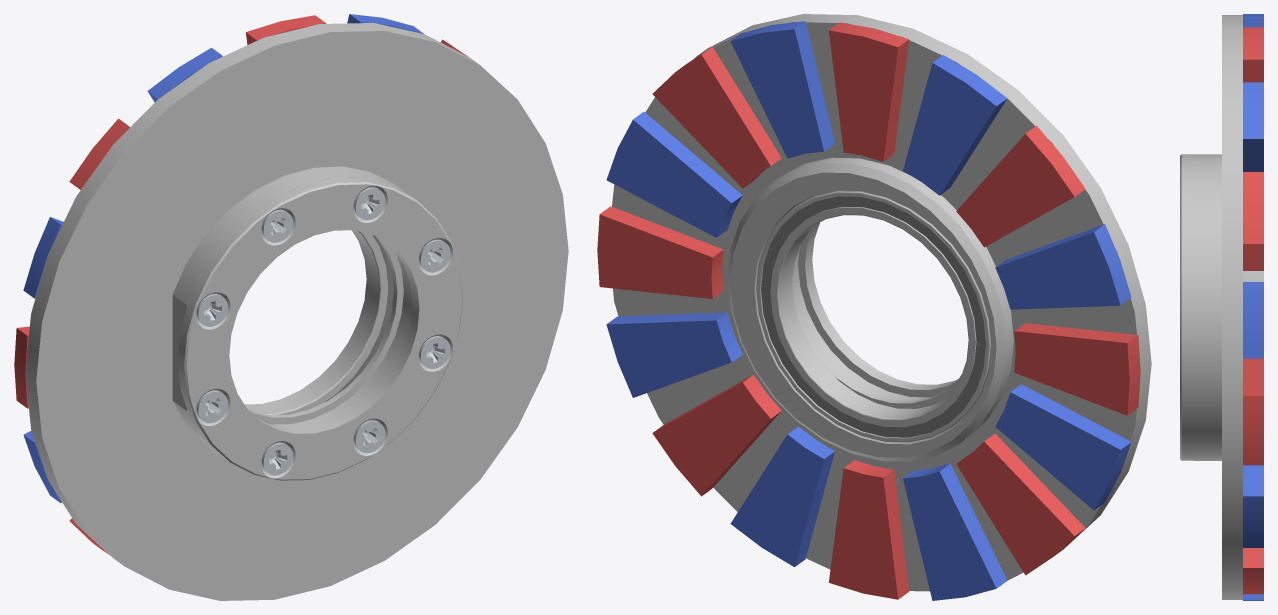
The model's file is backCore_colored.gltf.
The picture shows the model from 3 angles, left to right: view 1: azimuth 30°, elevation 25°; view 2: azimuth 150°, elevation 25°; view 3: azimuth 270°, elevation 25°; orthographic projection. The views are drawn at different scales.
Parts seen in each view (by area): view 1: backCore, backCap, PZ Countersunk flat head screw M2.5x0.45 x 6 (×8), W 61706 2RZ, mesh36_mesh, mesh72_mesh, mesh90_mesh, mesh30_mesh, mesh6_mesh; view 2: backCore, W 61706 2RZ, mesh66_mesh, mesh84_mesh, mesh78_mesh, mesh60_mesh, mesh12_mesh, mesh6_mesh, mesh42_mesh, mesh30_mesh, mesh18_mesh, mesh24_mesh (+7 smaller); view 3: backCore, backCap, mesh42_mesh, mesh18_mesh, mesh60_mesh, mesh48_mesh, mesh78_mesh, mesh6_mesh, mesh0_mesh, mesh90_mesh, mesh54_mesh.
Part boxes in pixels (bbox=[...]): backCore: bbox=[25, 23, 568, 600]; backCap: bbox=[177, 177, 462, 480]; PZ Countersunk flat head screw M2.5x0.45 x 6 (×8): bbox=[197, 187, 450, 475]; W 61706 2RZ: bbox=[244, 230, 393, 414]; mesh36_mesh: bbox=[69, 118, 129, 189]; mesh72_mesh: bbox=[23, 217, 63, 298]; mesh90_mesh: bbox=[147, 47, 222, 102]; mesh30_mesh: bbox=[14, 326, 29, 408]; mesh6_mesh: bbox=[245, 15, 326, 44]; backCore: bbox=[612, 14, 1151, 591]; W 61706 2RZ: bbox=[756, 191, 990, 442]; mesh66_mesh: bbox=[903, 463, 1007, 600]; mesh84_mesh: bbox=[995, 384, 1131, 510]; mesh78_mesh: bbox=[606, 112, 742, 237]; mesh60_mesh: bbox=[730, 21, 834, 158]; mesh12_mesh: bbox=[828, 460, 909, 599]; mesh6_mesh: bbox=[828, 22, 909, 161]; mesh42_mesh: bbox=[597, 206, 723, 298]; mesh30_mesh: bbox=[1014, 323, 1140, 415]; mesh18_mesh: bbox=[652, 46, 781, 188]; mesh24_mesh: bbox=[956, 433, 1085, 575]; backCore: bbox=[1194, 15, 1263, 599]; backCap: bbox=[1180, 154, 1193, 460]; mesh42_mesh: bbox=[1243, 358, 1263, 465]; mesh18_mesh: bbox=[1243, 172, 1263, 270]; mesh60_mesh: bbox=[1243, 82, 1263, 171]; mesh48_mesh: bbox=[1243, 465, 1263, 547]; mesh78_mesh: bbox=[1243, 282, 1263, 358]; mesh6_mesh: bbox=[1243, 27, 1263, 82]; mesh0_mesh: bbox=[1243, 548, 1263, 594]; mesh90_mesh: bbox=[1243, 14, 1263, 27]; mesh54_mesh: bbox=[1243, 594, 1263, 600].
Size of the model in its own units: 0.084 by 0.084 by 0.012.
